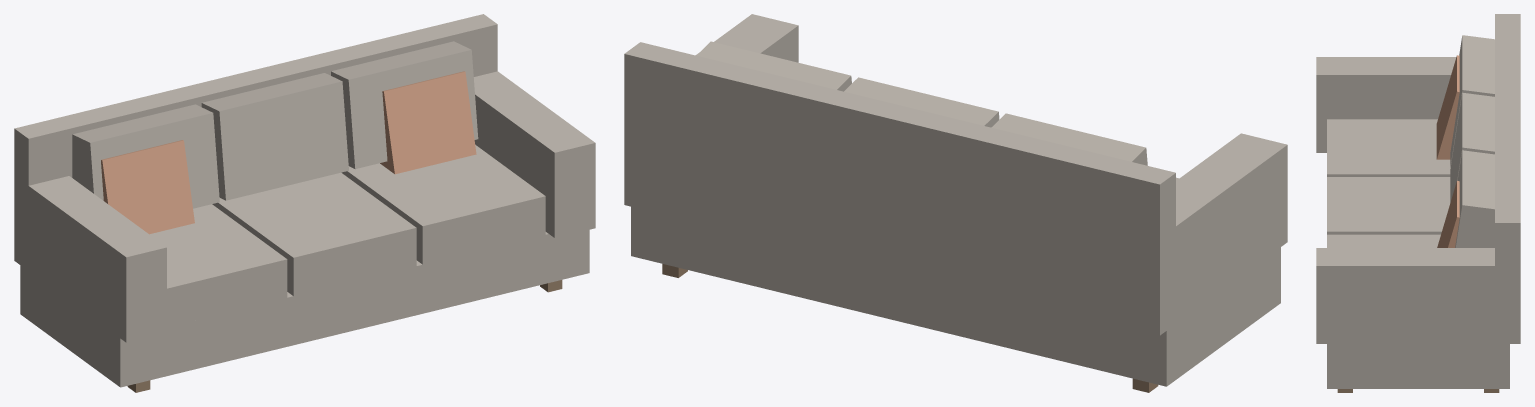
File: couch-3seat.gltf
3 renders of one model, left to right at view 1: azimuth 30°, elevation 25°; view 2: azimuth 150°, elevation 25°; view 3: azimuth 270°, elevation 25°, orthographic. The views are drawn at different scales.
Parts seen in each view (by area): view 1: base, arm_l, back_frame, seat_1, back_1, seat_2, arm_r, seat_0, back_2, accent_pillow_2, back_0, accent_pillow; view 2: back_frame, base, arm_l, arm_r, back_0, back_2, back_1; view 3: arm_r, arm_l, back_frame, base, seat_1, seat_0, back_2, back_1, back_0, seat_2, accent_pillow, accent_pillow_2.
Boxes of the visible parts, box(x1,y1,x2,y2) form: base: box(20, 230, 589, 387); arm_l: box(14, 176, 166, 342); back_frame: box(14, 14, 497, 270); seat_1: box(212, 172, 416, 296); back_1: box(201, 73, 348, 200); seat_2: box(341, 145, 545, 264); arm_r: box(473, 71, 595, 237); seat_0: box(149, 204, 287, 326); back_2: box(331, 41, 478, 168); accent_pillow_2: box(380, 71, 476, 174); back_0: box(72, 104, 219, 208); accent_pillow: box(101, 140, 194, 234); back_frame: box(624, 42, 1175, 335); base: box(631, 206, 1280, 386); arm_l: box(1113, 133, 1287, 335); arm_r: box(624, 14, 798, 209); back_0: box(991, 113, 1147, 165); back_2: box(697, 41, 851, 91); back_1: box(844, 77, 999, 127); arm_r: box(1316, 248, 1520, 343); arm_l: box(1316, 57, 1456, 152); back_frame: box(1495, 14, 1520, 343); base: box(1327, 344, 1509, 388); seat_1: box(1327, 177, 1450, 234); seat_0: box(1327, 119, 1450, 176); back_2: box(1455, 150, 1494, 247); back_1: box(1450, 92, 1494, 202); back_0: box(1450, 35, 1494, 166); seat_2: box(1327, 234, 1440, 247); accent_pillow: box(1436, 55, 1459, 159); accent_pillow_2: box(1437, 180, 1459, 247).
Size of the model in its own units: 0.1437 by 0.0575 by 0.0594.
